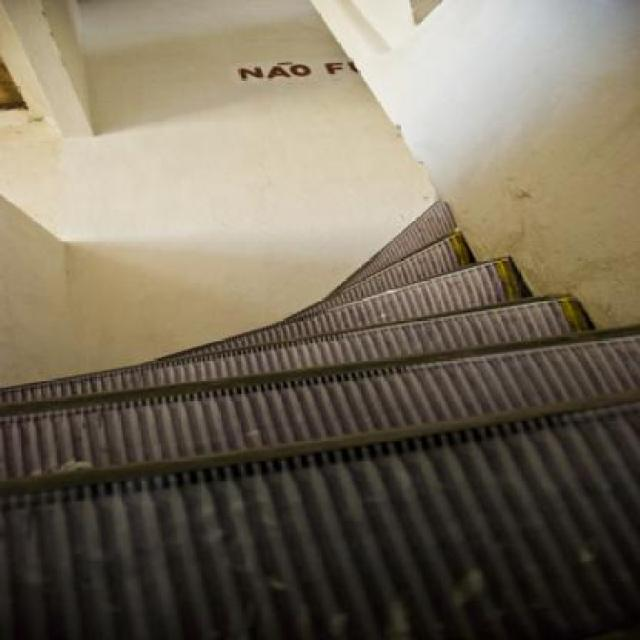stair: (0, 198, 638, 638)
